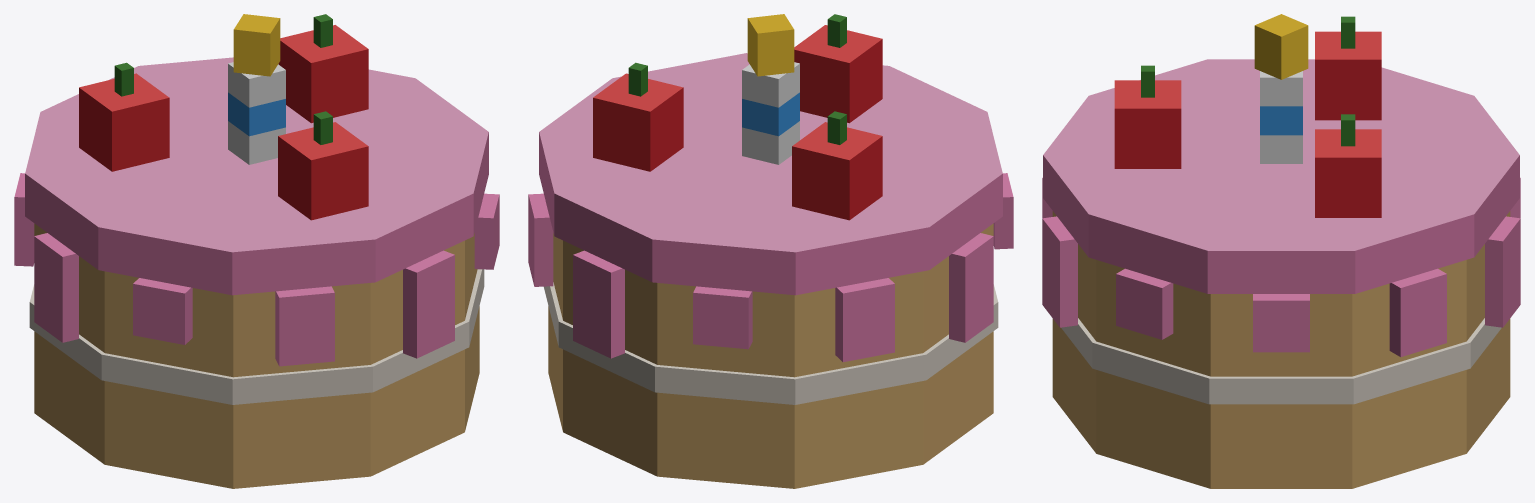
Rendered from cake.glb.
3 renders of one model, left to right at view 1: azimuth 30°, elevation 25°; view 2: azimuth 150°, elevation 25°; view 3: azimuth 270°, elevation 25°, orthographic.
Parts seen in each view (by area): view 1: cake; view 2: cake; view 3: cake.
Boxes of the visible parts, x1,y1,x2,y2 form: cake: (14, 14, 499, 488); cake: (528, 14, 1013, 488); cake: (1042, 14, 1520, 488).
Bounding box in the file's own units: 0.5 × 0.4232 × 0.4938.
